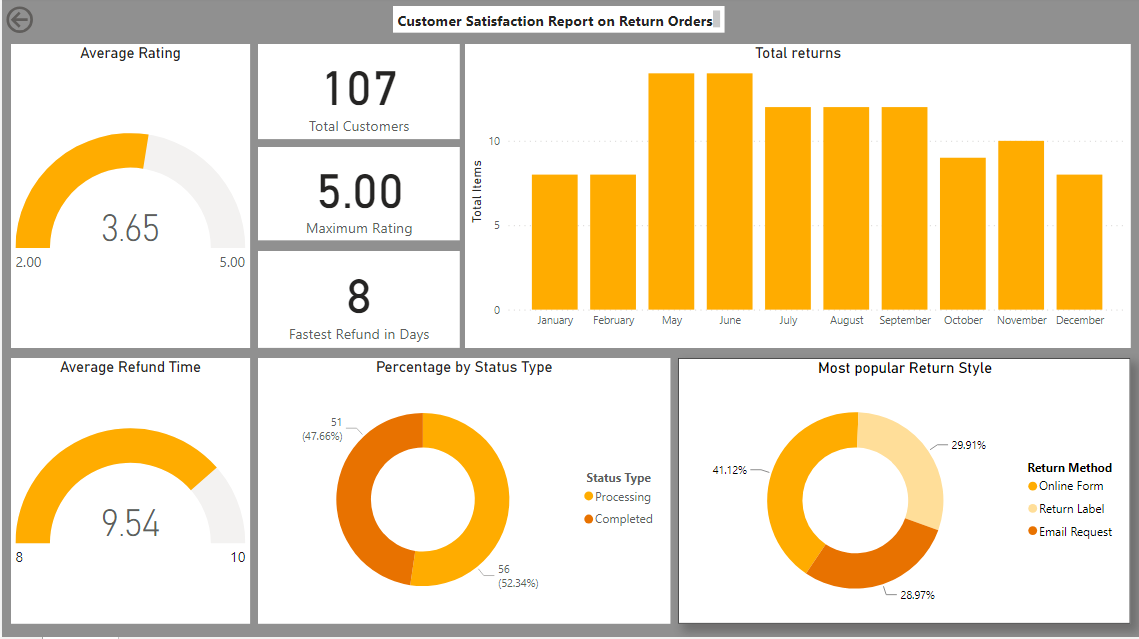

This screenshot's page, from the dashboard's own definition file:
{"tool":"powerbi","page":{"name":"Page 1","canvas":[1280,720],"ordinal":0},"visuals":[{"type":"gauge","title":"Average Rating","fields":{"Y":["Avg(customer_returns_testdata.Customer Satisfaction Rating)"],"MinValue":["Min(customer_returns_testdata.Customer Satisfaction Rating)"],"MaxValue":["Max(customer_returns_testdata.Customer Satisfaction Rating)1"]},"box":[10.3,52.7,268.6,341.8],"z":0},{"type":"columnChart","title":"Total returns ","fields":{"Y":["CountNonNull(customer_returns_testdata.Return Initiation Date)"],"Category":["customer_returns_testdata.Return Initiation Date.Variation.Date Hierarchy.Month"]},"box":[520.5,52.7,749.2,341.8],"z":1000},{"type":"gauge","title":"Average Refund Time","fields":{"Y":["Avg(customer_returns_testdata.Time)"],"MinValue":["Min(customer_returns_testdata.Time)1"],"MaxValue":["Max(customer_returns_testdata.Time)2"]},"box":[10.3,406.1,268.6,299.4],"z":2000},{"type":"donutChart","title":"Most popular Return  Style","fields":{"Y":["CountNonNull(customer_returns_testdata.Return Method)"],"Category":["customer_returns_testdata.Return Method"]},"box":[760.8,406.1,508.9,299.4],"z":3000},{"type":"card","fields":{"Values":["CountNonNull(customer_returns_testdata.Order ID)"]},"box":[287.9,52.7,227.5,106.7],"z":4000},{"type":"actionButton","box":[0,5.1,100.2,39.8],"z":5000},{"type":"donutChart","fields":{"Y":["CountNonNull(customer_returns_testdata.Return Status)"],"Category":["customer_returns_testdata.Return Status"]},"box":[287.9,406.1,463.9,299.4],"z":6000},{"type":"card","fields":{"Values":["Max(customer_returns_testdata.Customer Satisfaction Rating)"]},"box":[287.9,168.4,227.5,105.4],"z":7000},{"type":"card","fields":{"Values":["Min(customer_returns_testdata.Time required)"]},"box":[287.9,285.3,227.5,109.2],"z":8000},{"type":"textbox","box":[439.5,10.3,372.7,29.6],"z":9000}]}

Visuals, with their boxes in screenshot pixels (x1, y1, x2, y2):
"Average Rating" gauge: box=[3, 39, 247, 348]
"Total returns " columnChart: box=[465, 39, 1138, 348]
"Average Refund Time" gauge: box=[3, 359, 247, 630]
"Most popular Return  Style" donutChart: box=[683, 359, 1138, 630]
card - CountNonNull(customer_returns_testdata.Order ID): box=[255, 39, 461, 135]
actionButton: box=[0, 0, 85, 32]
donutChart - CountNonNull(customer_returns_testdata.Return Status) x customer_returns_testdata.Return Status: box=[255, 359, 675, 630]
card - Max(customer_returns_testdata.Customer Satisfaction Rating): box=[255, 144, 461, 239]
card - Min(customer_returns_testdata.Time required): box=[255, 249, 461, 348]
textbox: box=[392, 0, 730, 27]
